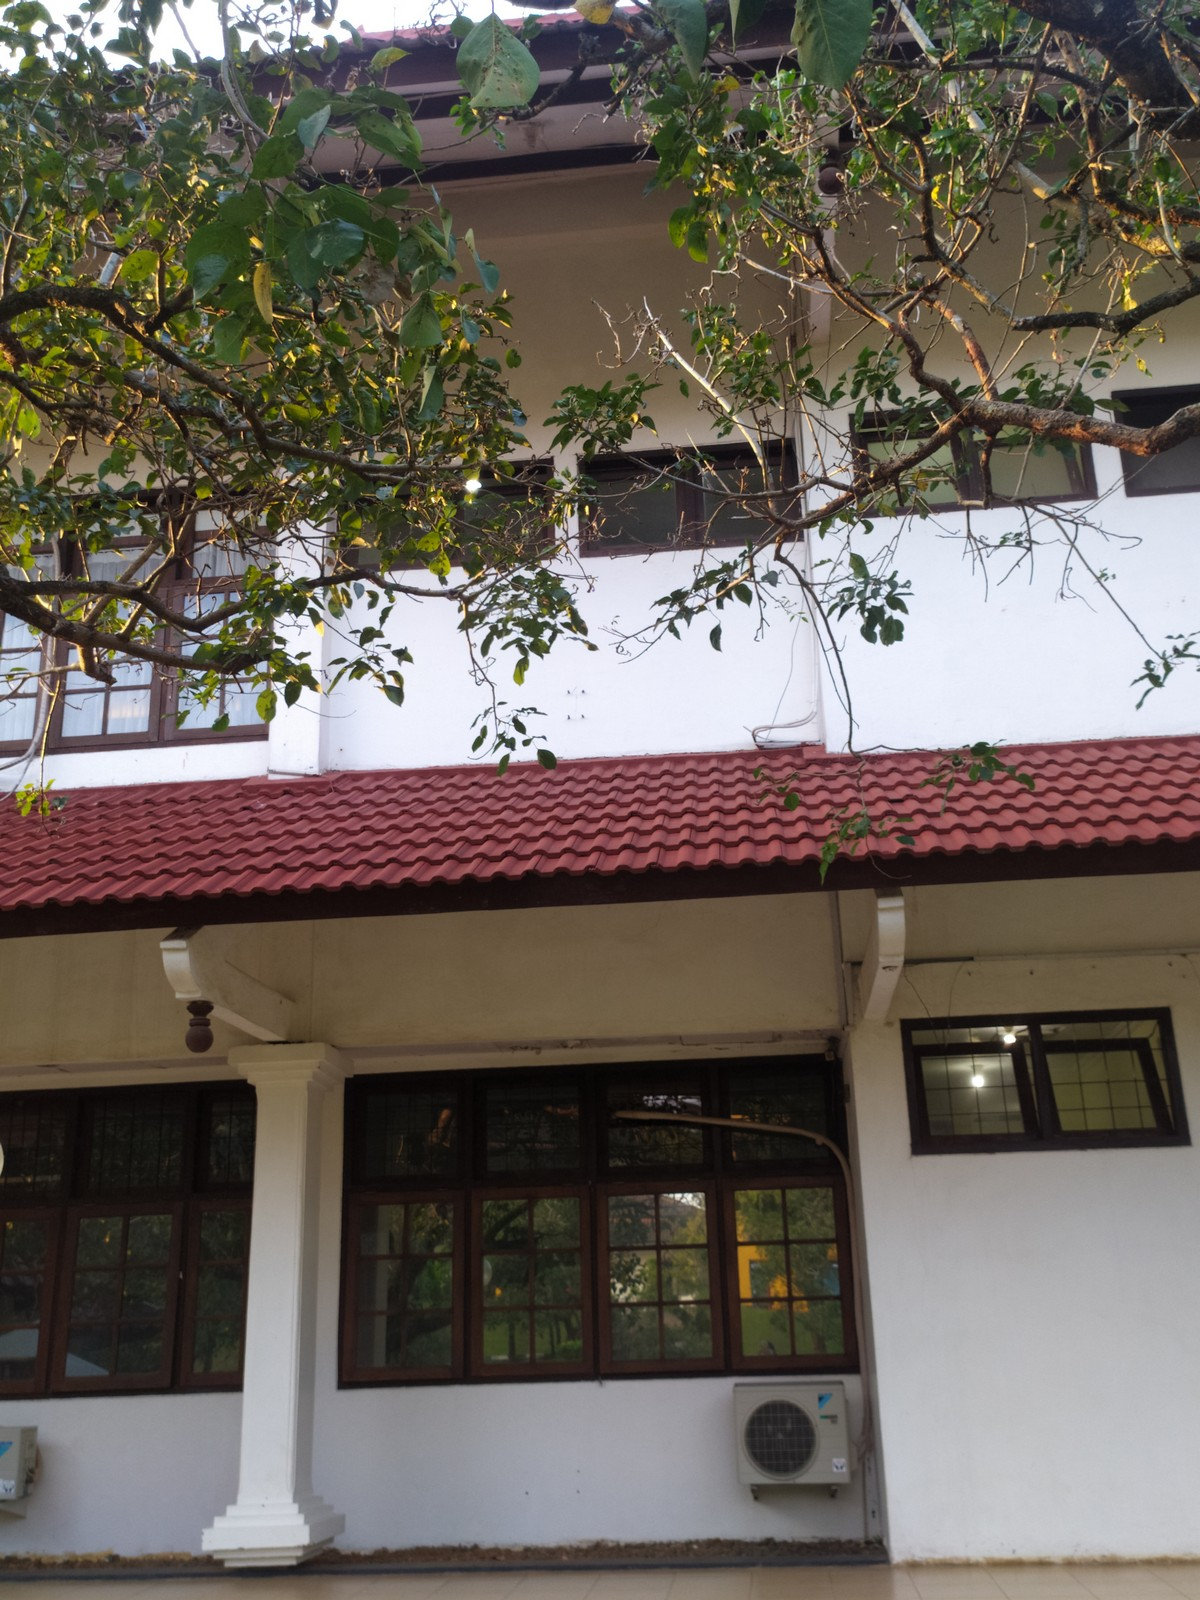concrete column: (229, 1077, 332, 1488)
